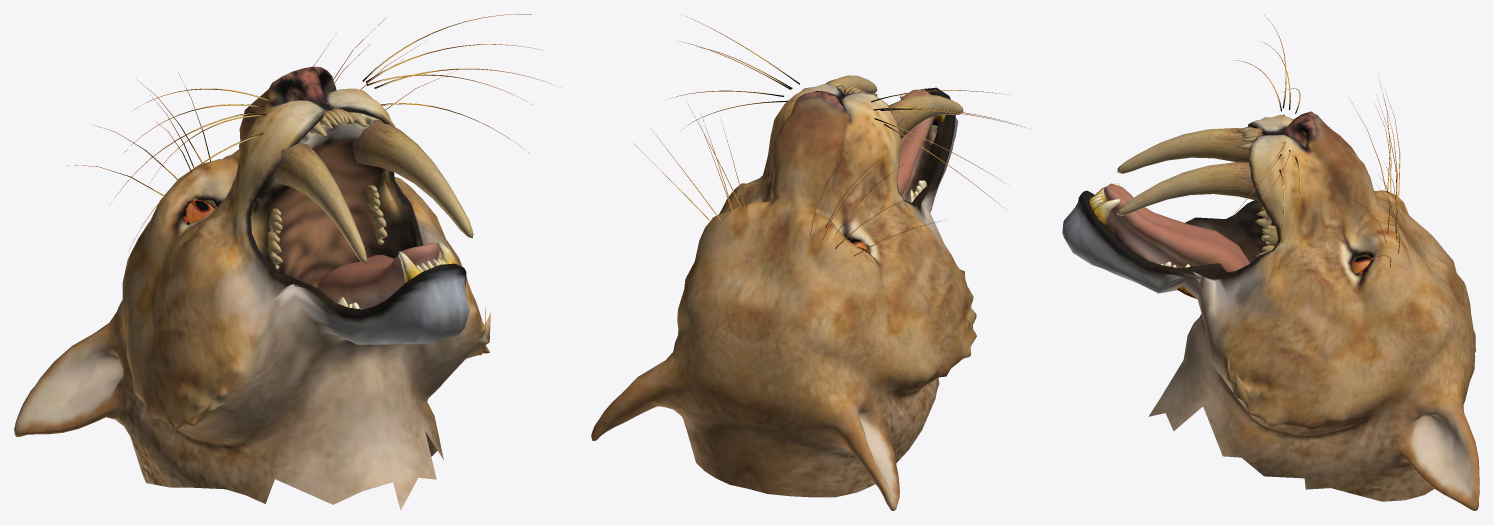
The model's file is modelo-19.glb.
The picture shows the model from 3 angles, left to right: view 1: azimuth 30°, elevation 25°; view 2: azimuth 150°, elevation 25°; view 3: azimuth 270°, elevation 25°; orthographic projection. The views are drawn at different scales.
Parts seen in each view (by area): view 1: CabezaSmilo4; view 2: CabezaSmilo4; view 3: CabezaSmilo4.
Part boxes in pixels (<box>): CabezaSmilo4: <box>14,14,553,510</box>; CabezaSmilo4: <box>591,18,1024,510</box>; CabezaSmilo4: <box>1062,15,1479,510</box>.
Size of the model in its own units: 0.8562 by 0.8676 by 0.8923.
5 materials, 5 textured.
